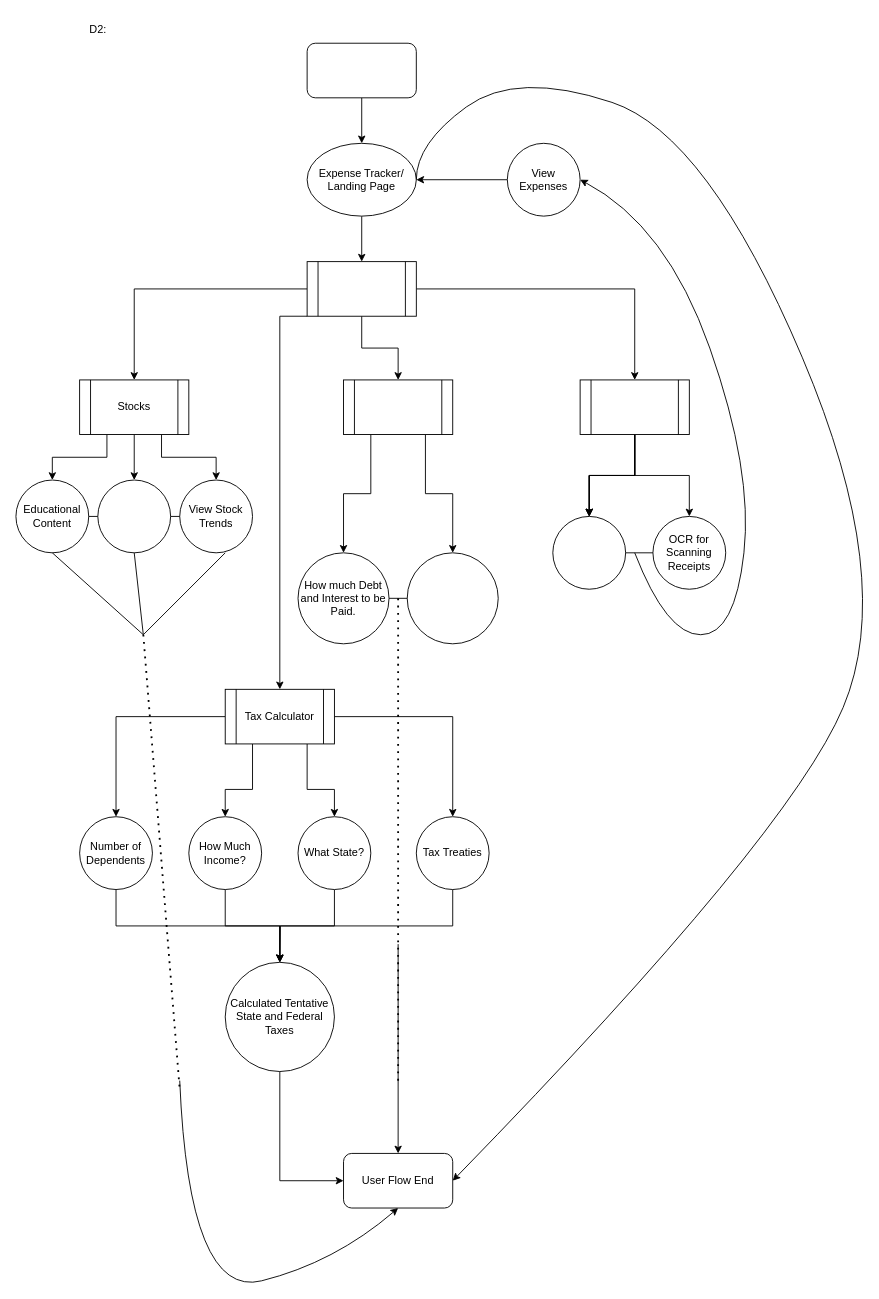
The diagram is 879 pixels wide and 1299 high, and some of its shapes have lost their labels. Here are the shapes that lost their labels. From the top down, the centre of each, then its label:
pixel 361 70: User
pixel 361 288: Menu
pixel 398 407: Debt
pixel 634 407: Add Expenses
pixel 134 516: Save Favorite Stocks
pixel 589 552: Add Expense Form
pixel 452 598: Pie Chart to Visualize Monthly Payments
